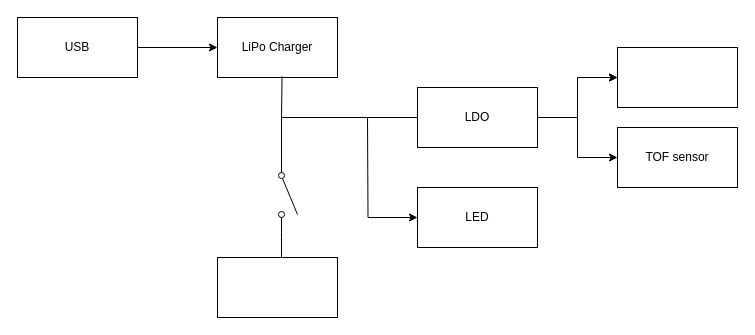
Some shapes in this 755 by 335 pixel diagram are drawn without their labels. The centre of each missing label's shape, as x and y in pixels:
LiPo Battery: the point at 277,287
uC: the point at 677,77
